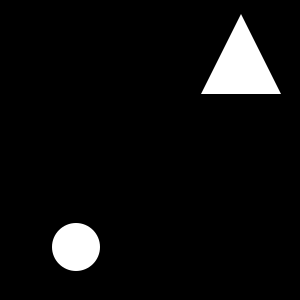rectangle: (52, 223, 100, 271)
triangle: (201, 14, 281, 94)
